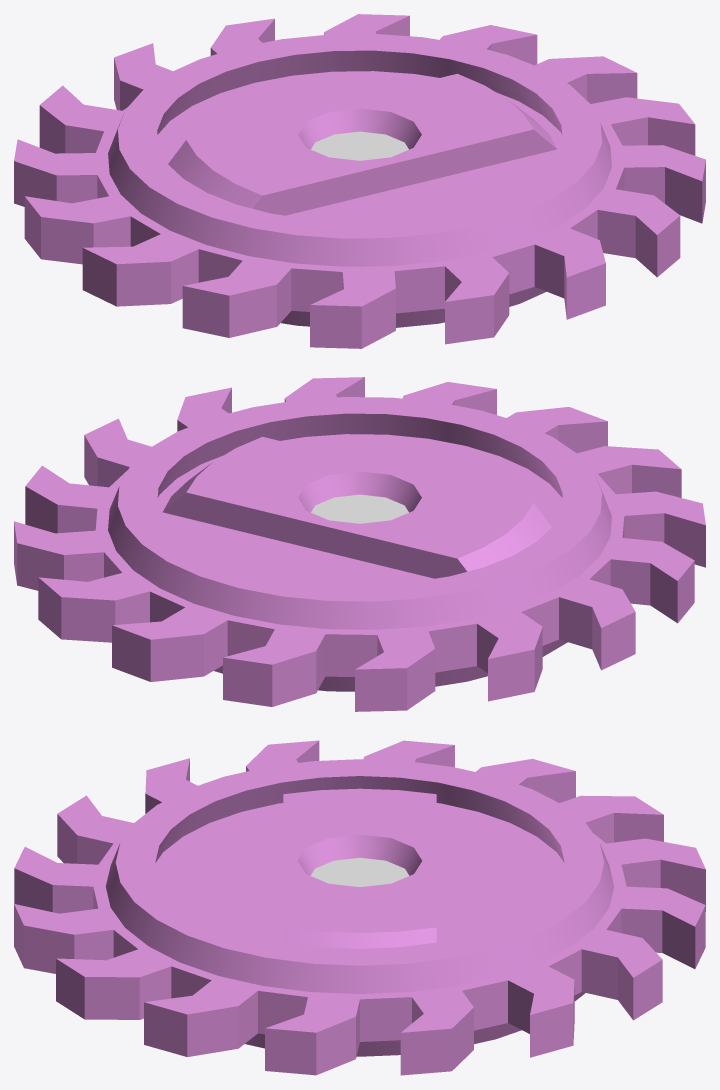
The model's file is Saw2.fbx.
3 renders of one model, top to bottom at view 1: azimuth 30°, elevation 25°; view 2: azimuth 150°, elevation 25°; view 3: azimuth 270°, elevation 25°, orthographic.
Visible parts, largest first — view 1: Cylinder; view 2: Cylinder; view 3: Cylinder.
Part boxes in pixels (<box>): Cylinder: <box>14,14,705,348</box>; Cylinder: <box>14,377,705,711</box>; Cylinder: <box>14,740,705,1075</box>.
Bounding box in the file's own units: 1.63 × 0.2454 × 1.63.
